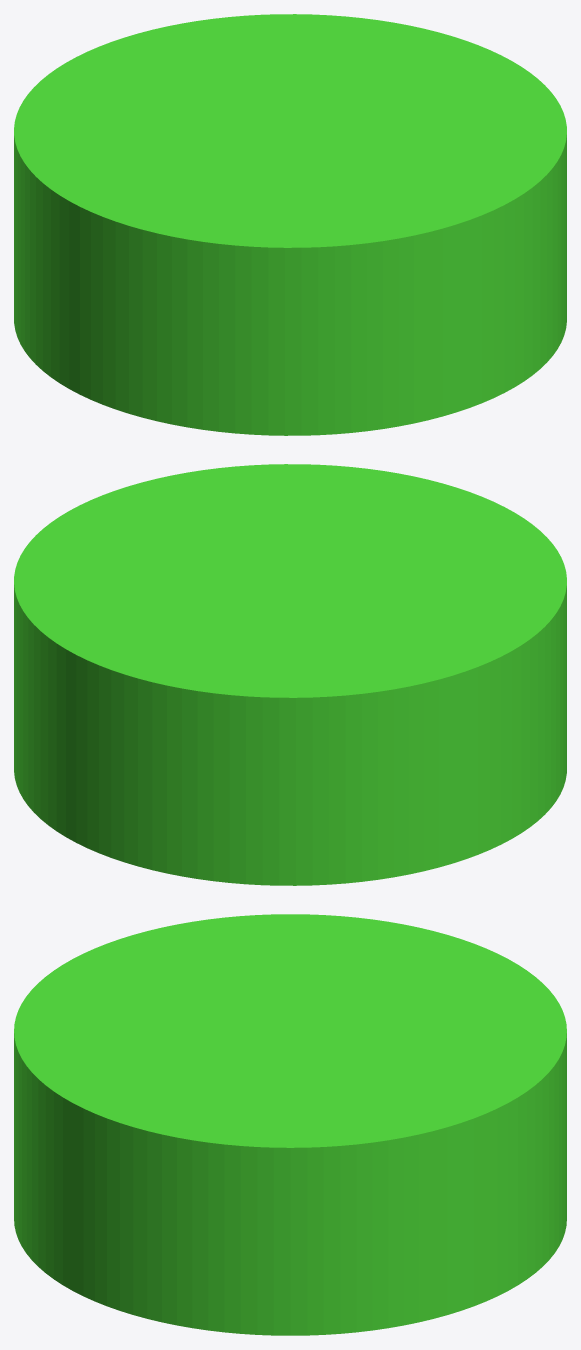
Rendered from rond_vert.dae.
The picture shows the model from 3 angles, top to bottom: view 1: azimuth 30°, elevation 25°; view 2: azimuth 150°, elevation 25°; view 3: azimuth 270°, elevation 25°; orthographic projection.
Parts seen in each view (by area): view 1: Rond Vert; view 2: Rond Vert; view 3: Rond Vert.
Part boxes in pixels (x1,y1,x2,y2): Rond Vert: [14, 14, 566, 435]; Rond Vert: [14, 464, 566, 885]; Rond Vert: [14, 914, 566, 1335].
Bounding box in the file's own units: 0.04 × 0.04 × 0.015.
